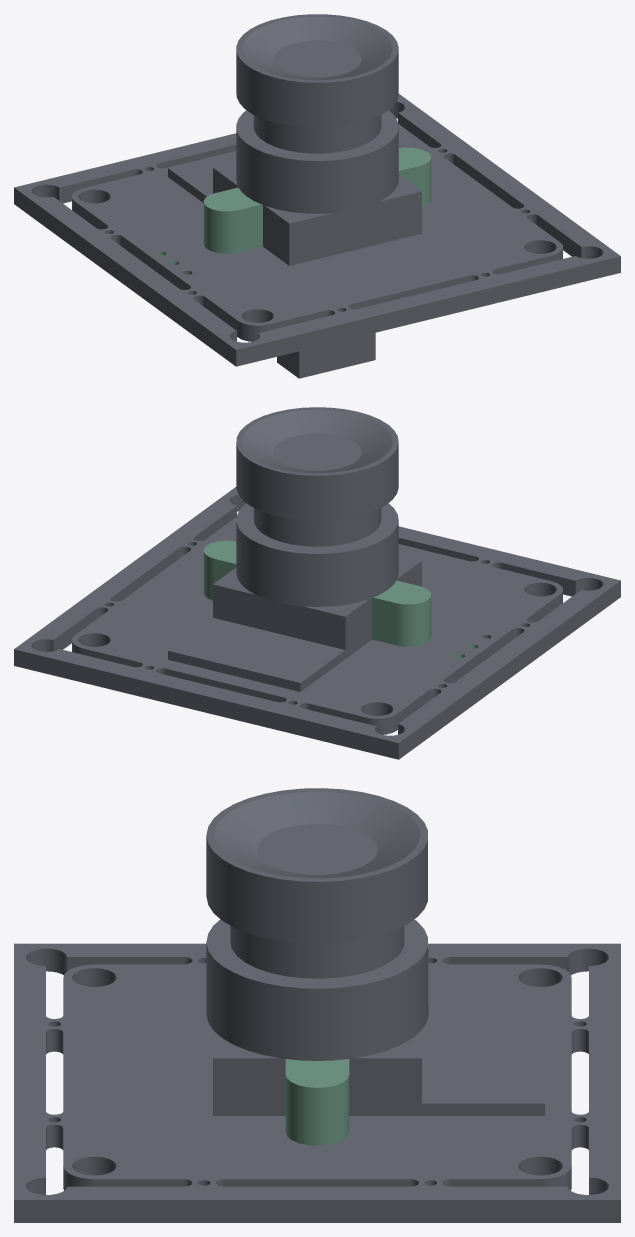
Rendered from arducam-b0332.glb.
3 renders of one model, top to bottom at view 1: azimuth 30°, elevation 25°; view 2: azimuth 150°, elevation 25°; view 3: azimuth 270°, elevation 25°, orthographic. The views are drawn at different scales.
Visible parts, largest first — view 1: arducam-b0332; view 2: arducam-b0332; view 3: arducam-b0332.
Part boxes in pixels (x1,y1,x2,y2): arducam-b0332: [14, 14, 620, 378]; arducam-b0332: [14, 407, 620, 759]; arducam-b0332: [14, 788, 620, 1222].
Bounding box in the file's own units: 3.81 × 2.24 × 3.81.
